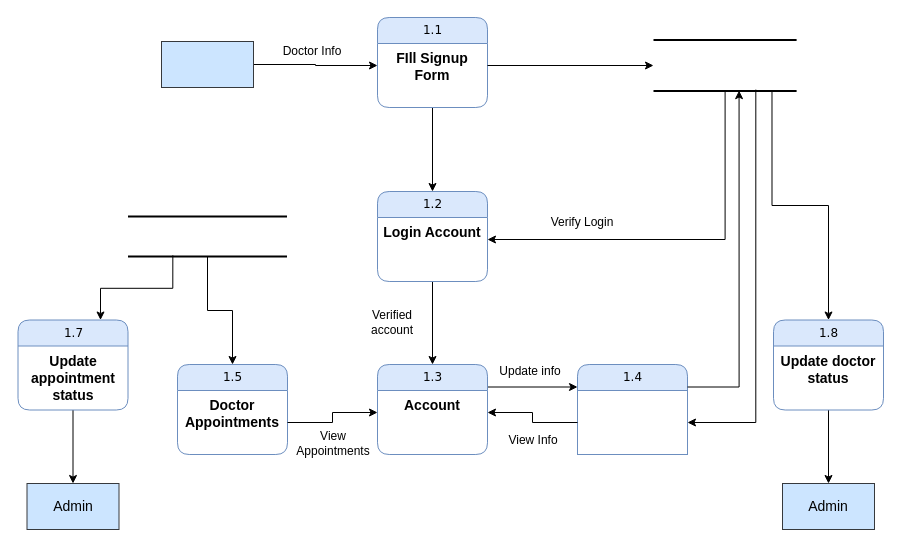
The diagram is 901 pixels wide and 547 high, and some of its shapes have lost their labels. The centre of each missing label's shape, as x and y in pixels:
"Appointment Record" goes at pixel 207 236.
"Doctor" goes at pixel 207 64.
"Doctor Record" goes at pixel 724 65.
"Edit/Update Account" goes at pixel 632 422.
